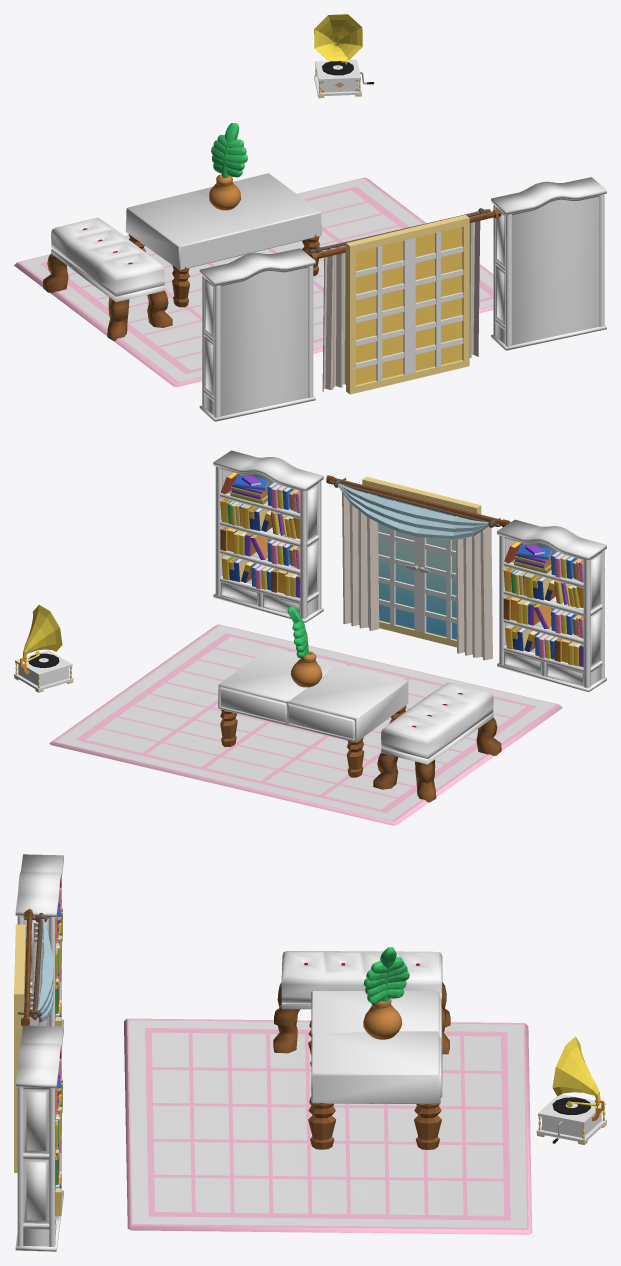
File: LivingRoom_Furnitures.fbx
3 views of the same model, one above another, from view 1: azimuth 30°, elevation 25°; view 2: azimuth 150°, elevation 25°; view 3: azimuth 270°, elevation 25° (orthographic). The views are drawn at different scales.
Visible parts, largest first — view 1: Living_Room_Bookshelf, Curtains_Draped, Rug, CoffeeTable_Wooden, Bench_Cushioned.001, Gramophone; view 2: Rug, Living_Room_Bookshelf, Curtains_Draped, CoffeeTable_Wooden, Bench_Cushioned.001, Gramophone; view 3: Rug, CoffeeTable_Wooden, Living_Room_Bookshelf, Bench_Cushioned.001, Curtains_Draped, Gramophone.
Boxes of the visible parts, box(x1,y1,x2,y2) form: Living_Room_Bookshelf: box(199, 177, 606, 421); Curtains_Draped: box(309, 208, 501, 394); Rug: box(14, 177, 493, 386); CoffeeTable_Wooden: box(125, 123, 321, 307); Bench_Cushioned.001: box(43, 217, 172, 341); Gramophone: box(314, 14, 374, 98); Rug: box(49, 624, 562, 825); Living_Room_Bookshelf: box(213, 450, 606, 691); Curtains_Draped: box(326, 475, 510, 660); CoffeeTable_Wooden: box(218, 606, 408, 777); Bench_Cushioned.001: box(373, 682, 501, 802); Gramophone: box(14, 605, 73, 692); Rug: box(124, 1018, 532, 1234); CoffeeTable_Wooden: box(308, 947, 442, 1149); Living_Room_Bookshelf: box(15, 854, 63, 1251); Bench_Cushioned.001: box(273, 951, 450, 1054); Curtains_Draped: box(14, 909, 53, 1172); Gramophone: box(536, 1036, 606, 1144).
Bounding box in the file's own units: 3003 × 1162 × 3280.
